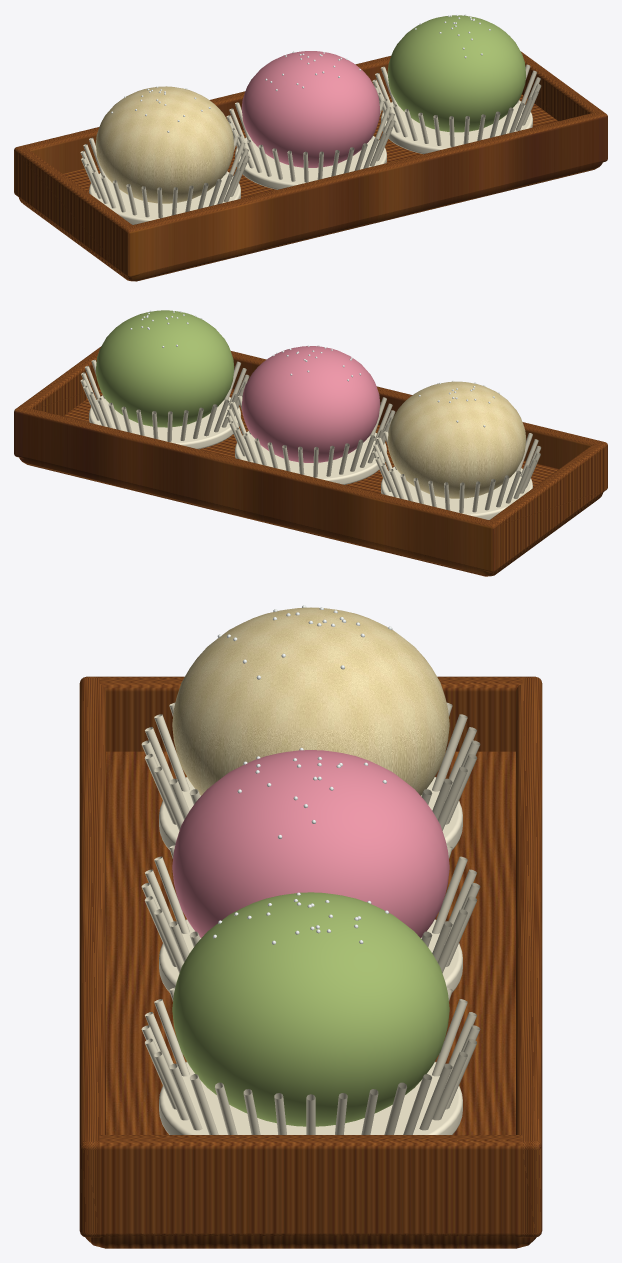
File: 06_Mochi_Gift.glb
3 views of the same model, one above another, from view 1: azimuth 30°, elevation 25°; view 2: azimuth 150°, elevation 25°; view 3: azimuth 270°, elevation 25° (orthographic). The views are drawn at different scales.
Visible parts, largest first — view 1: SM_Tray long rim, SM_Powdered mochi, SM_Powdered mochi.001, SM_Powdered mochi.002, SM_Mochi base, SM_Tray end rim, SM_Tray long rim.001, SM_Paper cup bottom.001, SM_Paper cup bottom.002, SM_Tray end rim.001, SM_Paper cup bottom; view 2: SM_Tray long rim.001, SM_Powdered mochi.002, SM_Powdered mochi, SM_Powdered mochi.001, SM_Tray end rim, SM_Mochi base, SM_Tray long rim, SM_Paper cup bottom.001, SM_Paper cup bottom.002, SM_Tray end rim.001, SM_Paper cup bottom; view 3: SM_Powdered mochi.002, SM_Mochi base, SM_Tray end rim.001, SM_Powdered mochi, SM_Powdered mochi.001, SM_Tray long rim, SM_Tray long rim.001, SM_Tray end rim, SM_Paper cup bottom.002, SM_Paper cup bottom, SM_Paper cup bottom.001.
Boxes of the visible parts, x1,y1,x2,y2 form: SM_Tray long rim: (123,111,607,277); SM_Powdered mochi: (95,86,234,203); SM_Powdered mochi.001: (241,51,380,167); SM_Powdered mochi.002: (387,15,525,132); SM_Mochi base: (19,94,602,281); SM_Tray end rim: (17,148,132,273); SM_Tray long rim.001: (14,56,390,196); SM_Paper cup bottom.001: (235,136,386,189); SM_Paper cup bottom.002: (381,100,532,154); SM_Tray end rim.001: (521,51,602,120); SM_Paper cup bottom: (89,171,240,224); SM_Tray long rim.001: (14,406,498,572); SM_Powdered mochi.002: (96,310,234,427); SM_Powdered mochi: (387,381,526,498); SM_Powdered mochi.001: (241,346,380,462); SM_Tray end rim: (489,443,604,568); SM_Mochi base: (19,389,603,576); SM_Tray long rim: (231,351,607,491); SM_Paper cup bottom.001: (235,431,386,484); SM_Paper cup bottom.002: (89,395,240,449); SM_Tray end rim.001: (19,346,101,416); SM_Paper cup bottom: (381,466,532,519); SM_Powdered mochi.002: (172,892,449,1126); SM_Mochi base: (85,751,536,1248); SM_Tray end rim.001: (99,1135,522,1237); SM_Powdered mochi: (172,607,449,795); SM_Powdered mochi.001: (172,750,449,938); SM_Tray long rim: (79,676,105,1237); SM_Tray long rim.001: (516,676,542,1237); SM_Tray end rim: (99,676,522,751); SM_Paper cup bottom.002: (159,1062,462,1134); SM_Paper cup bottom: (159,777,462,849); SM_Paper cup bottom.001: (159,919,462,992).
Size of the model in its own units: 0.168 by 0.0433 by 0.07.
Materials: 6 (2 with a texture image).
